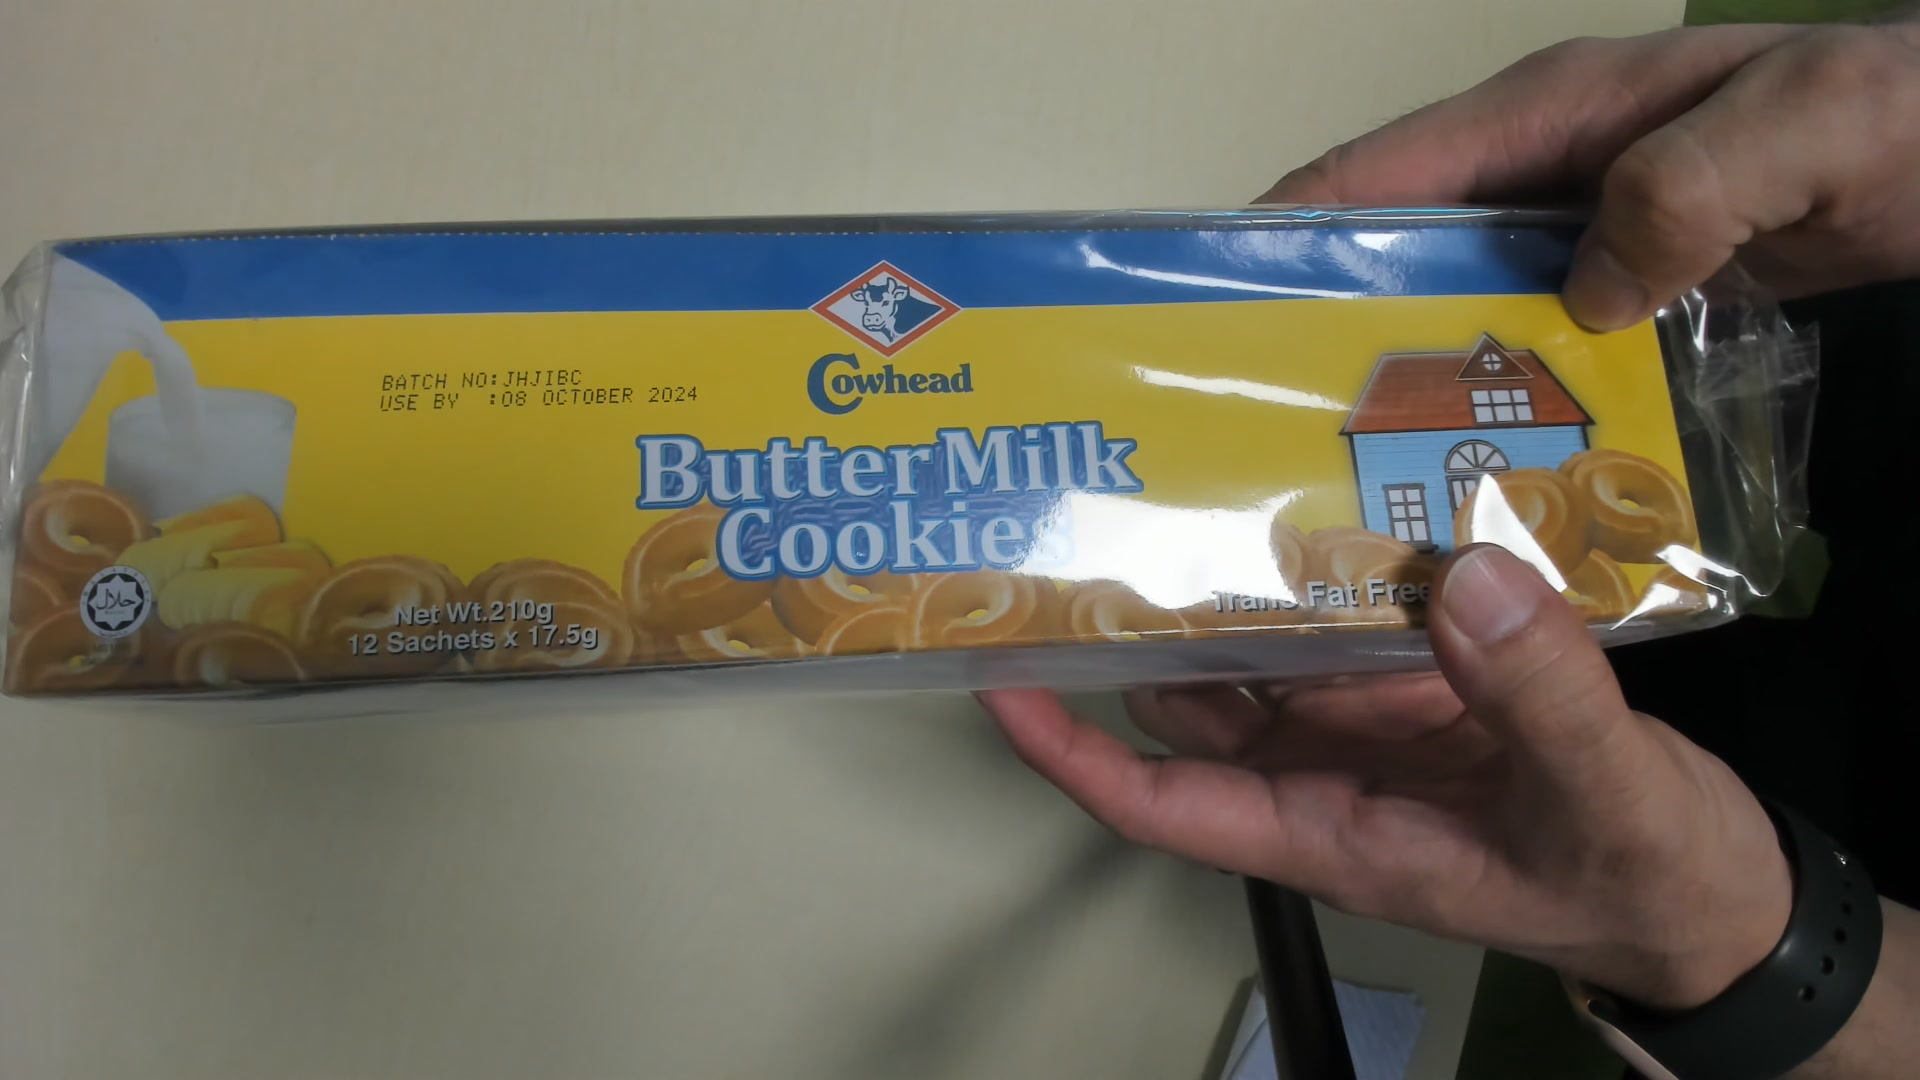SweetsChocolatesOthers_200-299g_Halal_Nonhealthy: (1, 233, 1742, 698)
